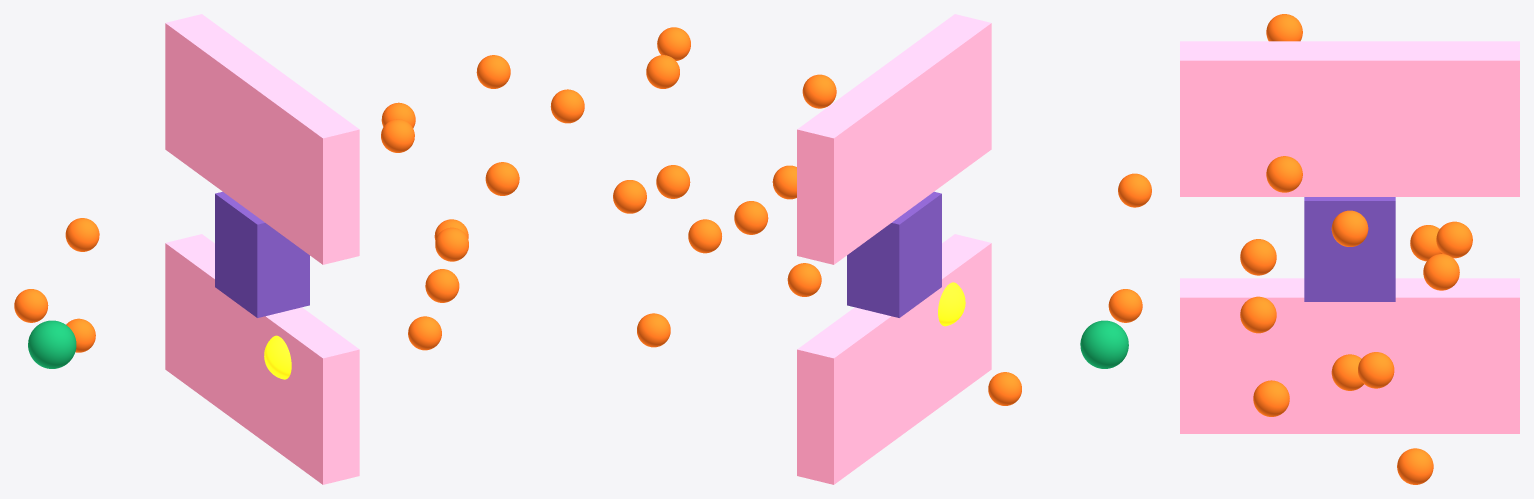
The model's file is active.glb.
3 views of the same model, side by side, from view 1: azimuth 30°, elevation 25°; view 2: azimuth 150°, elevation 25°; view 3: azimuth 270°, elevation 25° (orthographic). The views are drawn at different scales.
Visible parts, largest first — view 1: memTop, memBot, pump, mover, hi9, lo0, hi3, hi4, hi5, lo2, hi6, hi0 (+3 smaller); view 2: memTop, memBot, pump, mover, hi0, hi4, lo1, hi2, lo0, lo2, hi6, hi3 (+6 smaller); view 3: memTop, memBot, pump, hi1, hi0, hi4, hi5, hi9, hi2, hi6, hi3, hi7 (+3 smaller).
Part boxes in pixels (<box>): memTop: <box>165,14,359,264</box>; memBot: <box>165,234,359,484</box>; pump: <box>215,191,309,317</box>; mover: <box>28,320,76,368</box>; hi9: <box>550,89,584,123</box>; lo0: <box>65,218,99,251</box>; hi3: <box>408,316,441,350</box>; hi4: <box>425,269,459,302</box>; hi5: <box>435,227,468,261</box>; lo2: <box>14,289,48,322</box>; hi6: <box>485,162,519,195</box>; hi0: <box>381,119,414,152</box>; memTop: <box>797,14,991,264</box>; memBot: <box>797,234,991,484</box>; pump: <box>847,191,941,317</box>; mover: <box>1080,320,1128,368</box>; hi0: <box>802,74,836,108</box>; hi4: <box>637,313,670,347</box>; lo1: <box>988,372,1021,405</box>; hi2: <box>646,55,679,88</box>; lo0: <box>1118,173,1151,207</box>; lo2: <box>1108,289,1142,322</box>; hi6: <box>613,180,646,213</box>; hi3: <box>787,263,821,296</box>; memTop: <box>1180,41,1519,196</box>; memBot: <box>1180,278,1519,433</box>; pump: <box>1304,197,1395,301</box>; hi1: <box>1423,254,1459,290</box>; hi0: <box>1266,156,1302,192</box>; hi4: <box>1397,448,1433,484</box>; hi5: <box>1240,296,1276,333</box>; hi9: <box>1240,239,1276,275</box>; hi2: <box>1331,210,1368,246</box>; hi6: <box>1358,352,1394,388</box>; hi3: <box>1253,380,1289,416</box>; hi7: <box>1436,221,1472,258</box>.
Size of the model in its own units: 0.498 by 0.315 by 0.26.
